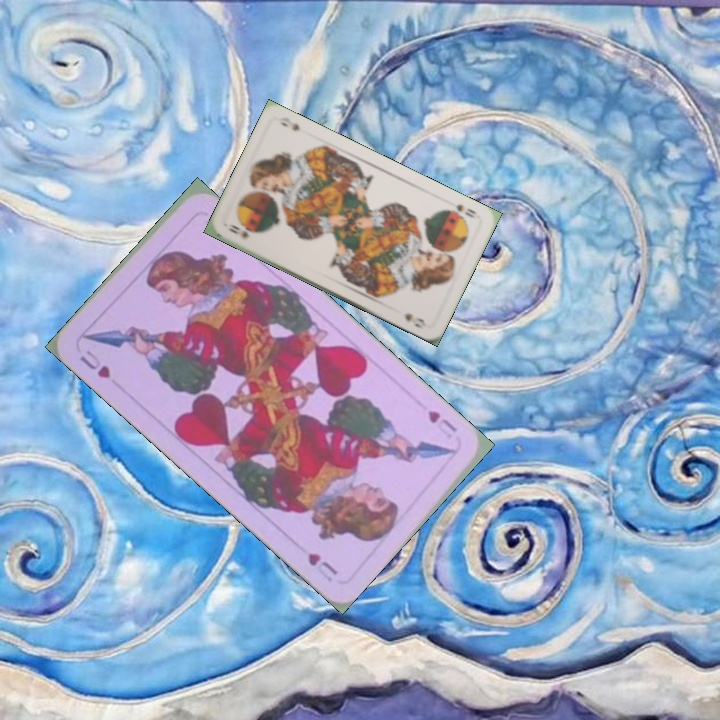HU: (75, 346, 114, 381), (423, 406, 459, 442)
SO: (442, 200, 478, 221), (224, 220, 252, 241)
